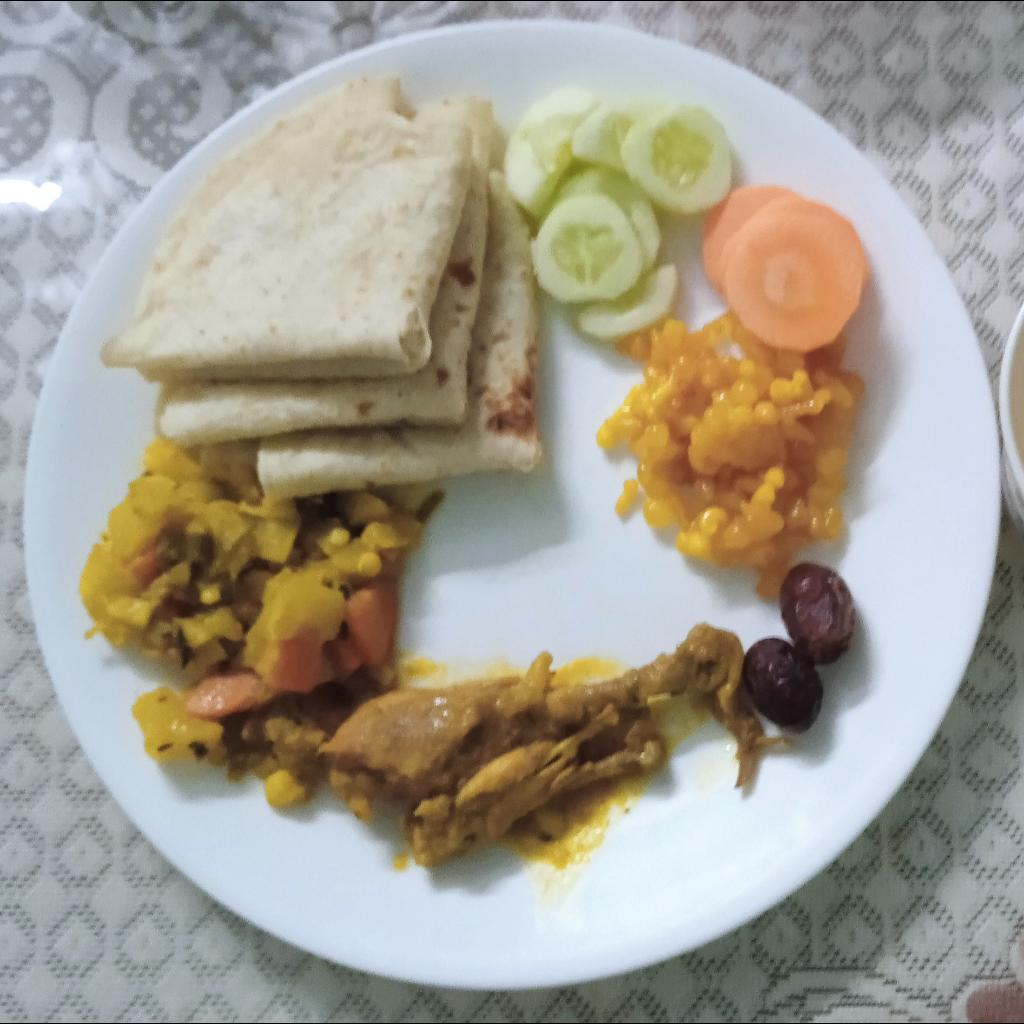burinda: (600, 313, 869, 598)
carrot: (702, 185, 872, 351)
chicken: (320, 628, 791, 865)
cucumber: (504, 86, 735, 339)
dates: (741, 563, 855, 731)
ruti: (103, 75, 541, 499)
vegetable: (79, 438, 448, 808)
